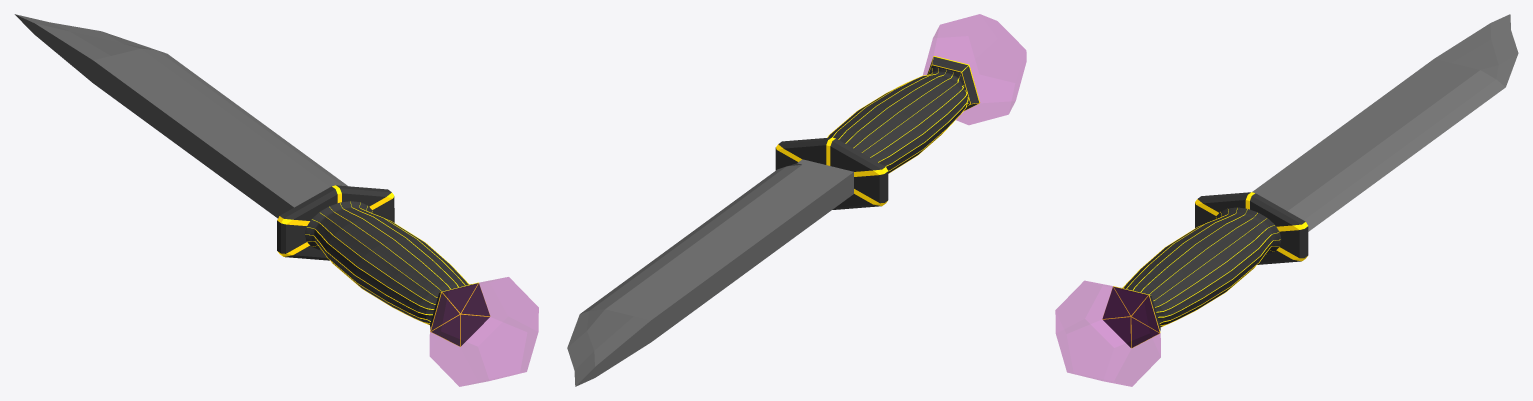
The model's file is Knife_for_import.fbx.
The picture shows the model from 3 angles, left to right: view 1: azimuth 30°, elevation 25°; view 2: azimuth 150°, elevation 25°; view 3: azimuth 330°, elevation 25°; orthographic projection. The views are drawn at different scales.
Parts seen in each view (by area): view 1: pCube2; view 2: pCube2; view 3: pCube2.
Part boxes in pixels (x1,y1,x2,y2): pCube2: [14, 14, 538, 386]; pCube2: [567, 14, 1026, 386]; pCube2: [1055, 14, 1518, 386].
Bounding box in the file's own units: 4.64 × 4.21 × 33.15.
